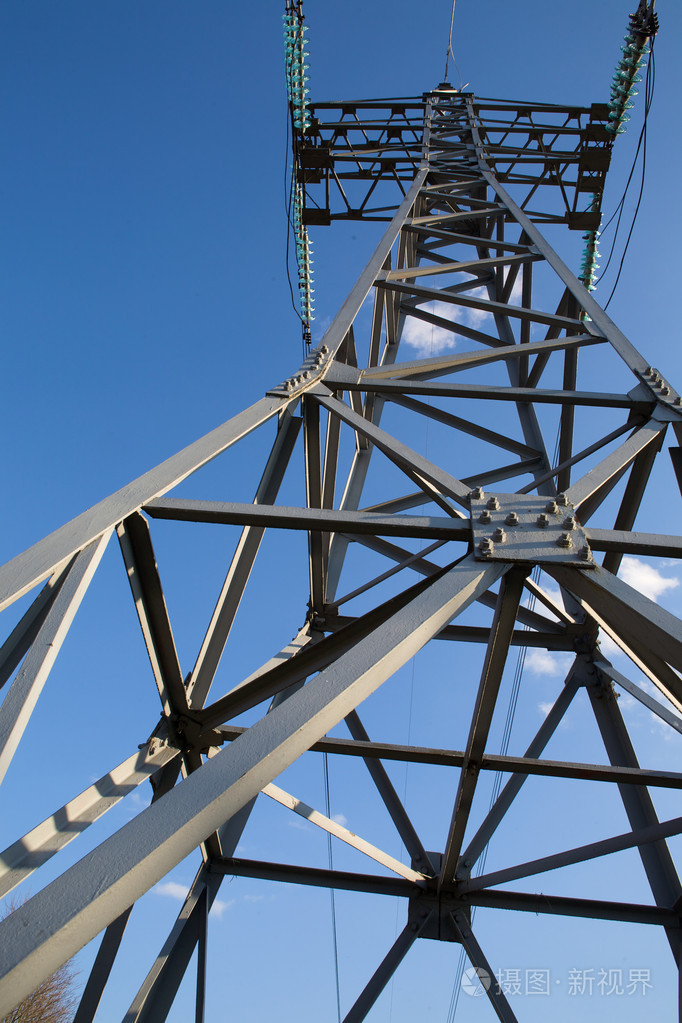insulator: (603, 34, 651, 138), (285, 11, 313, 135), (294, 237, 318, 324), (576, 232, 601, 294)
